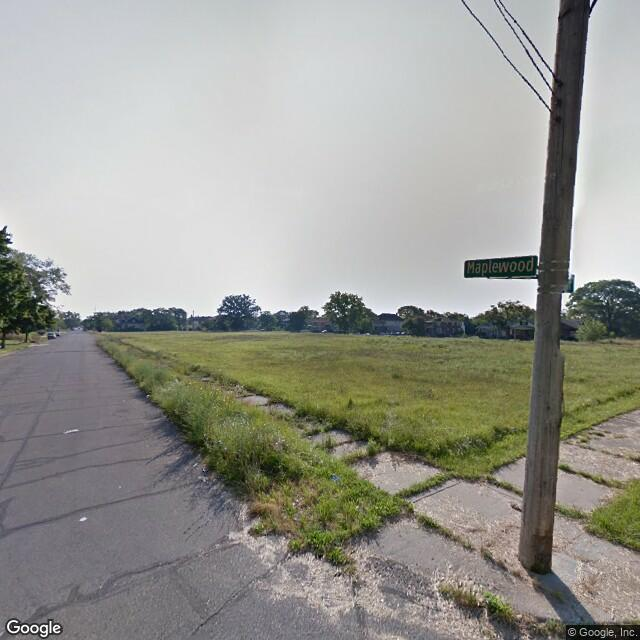litter: (61, 422, 87, 440)
